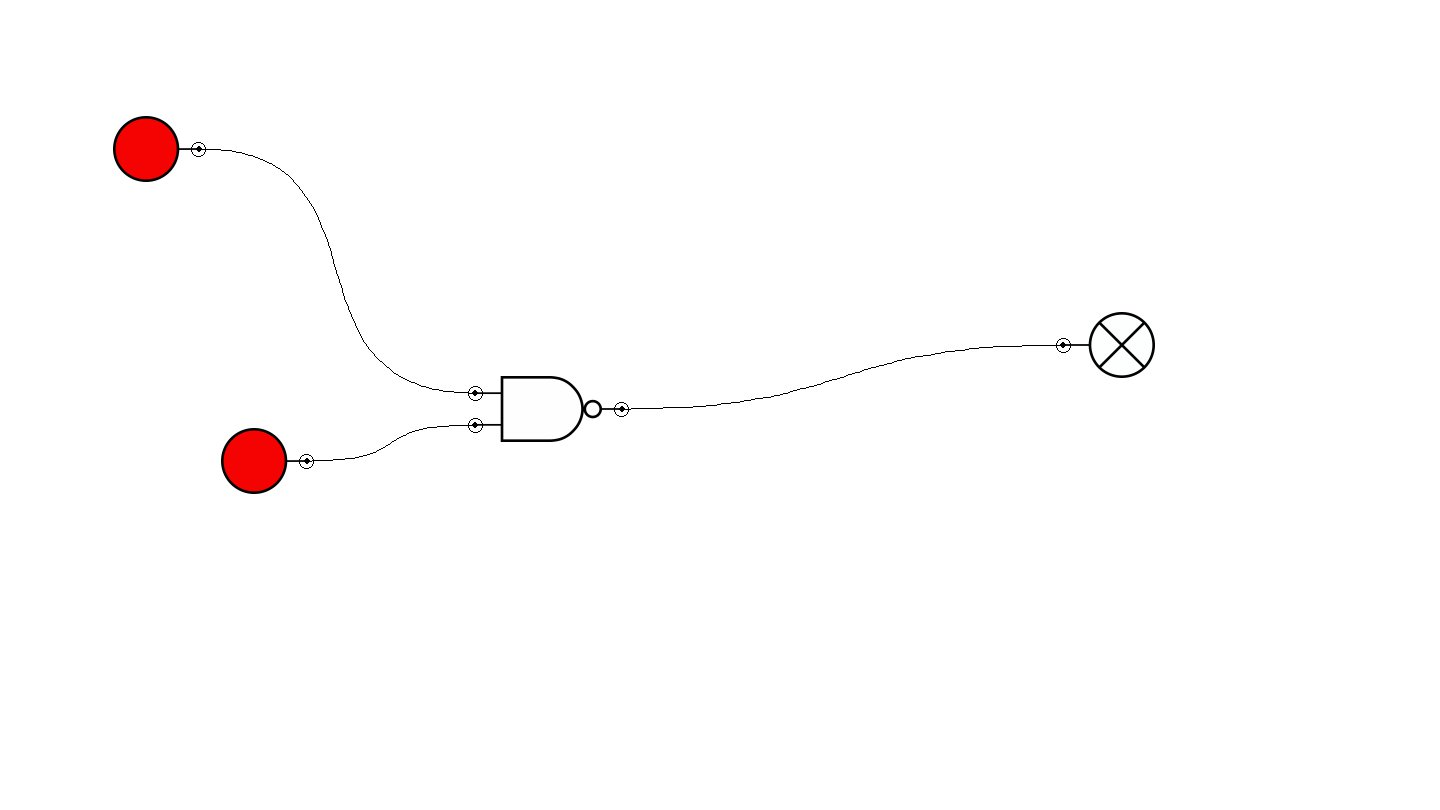bulb: (1056, 312, 1155, 378)
nand: (468, 376, 629, 442)
switch_False: (221, 428, 314, 494), (113, 116, 206, 182)
